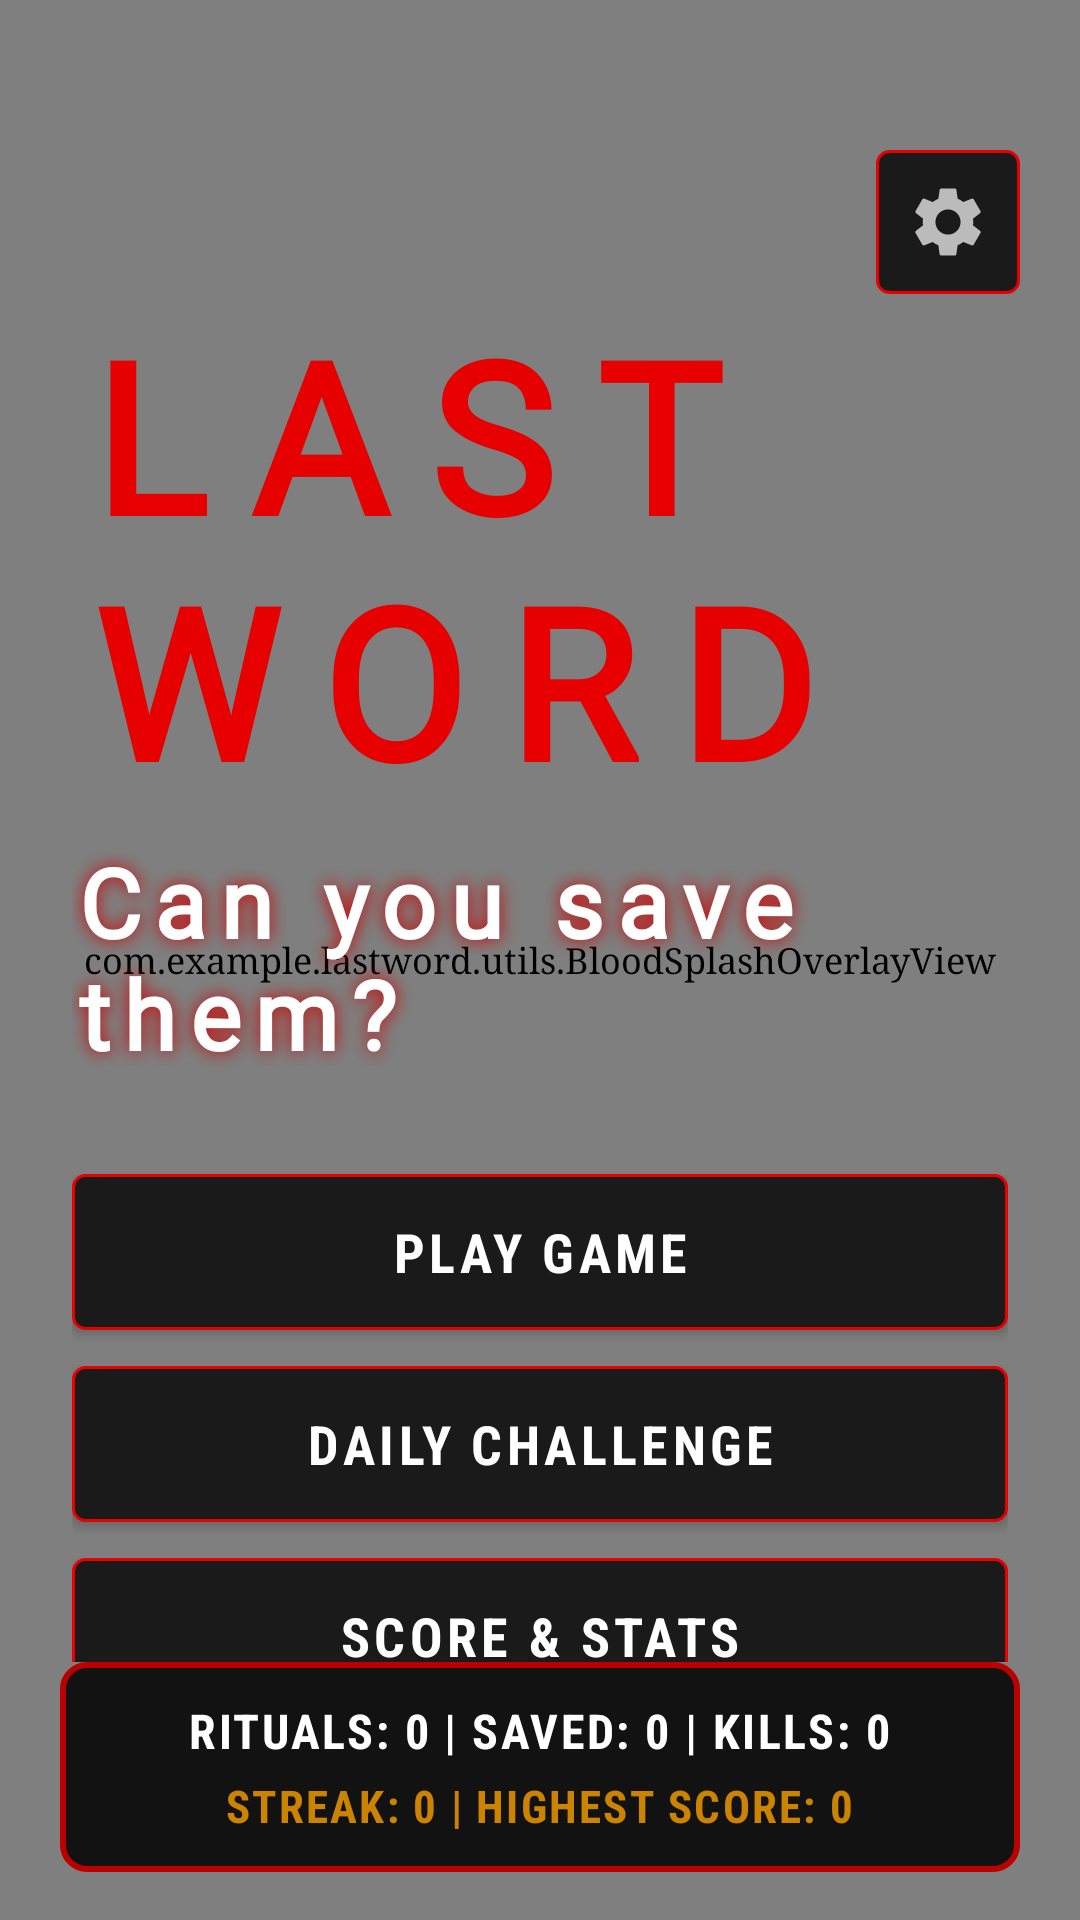

Named icons in this screenshot (1080 x 1920) and their centers, (x,y):
Settings: (948,222)
